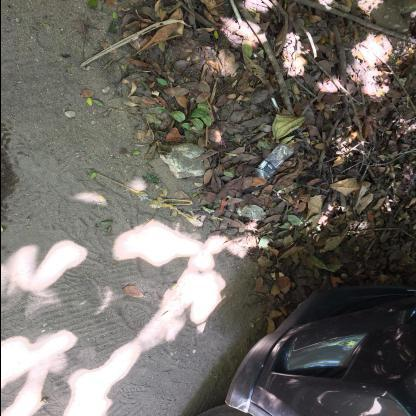plastik: (255, 144, 295, 182)
